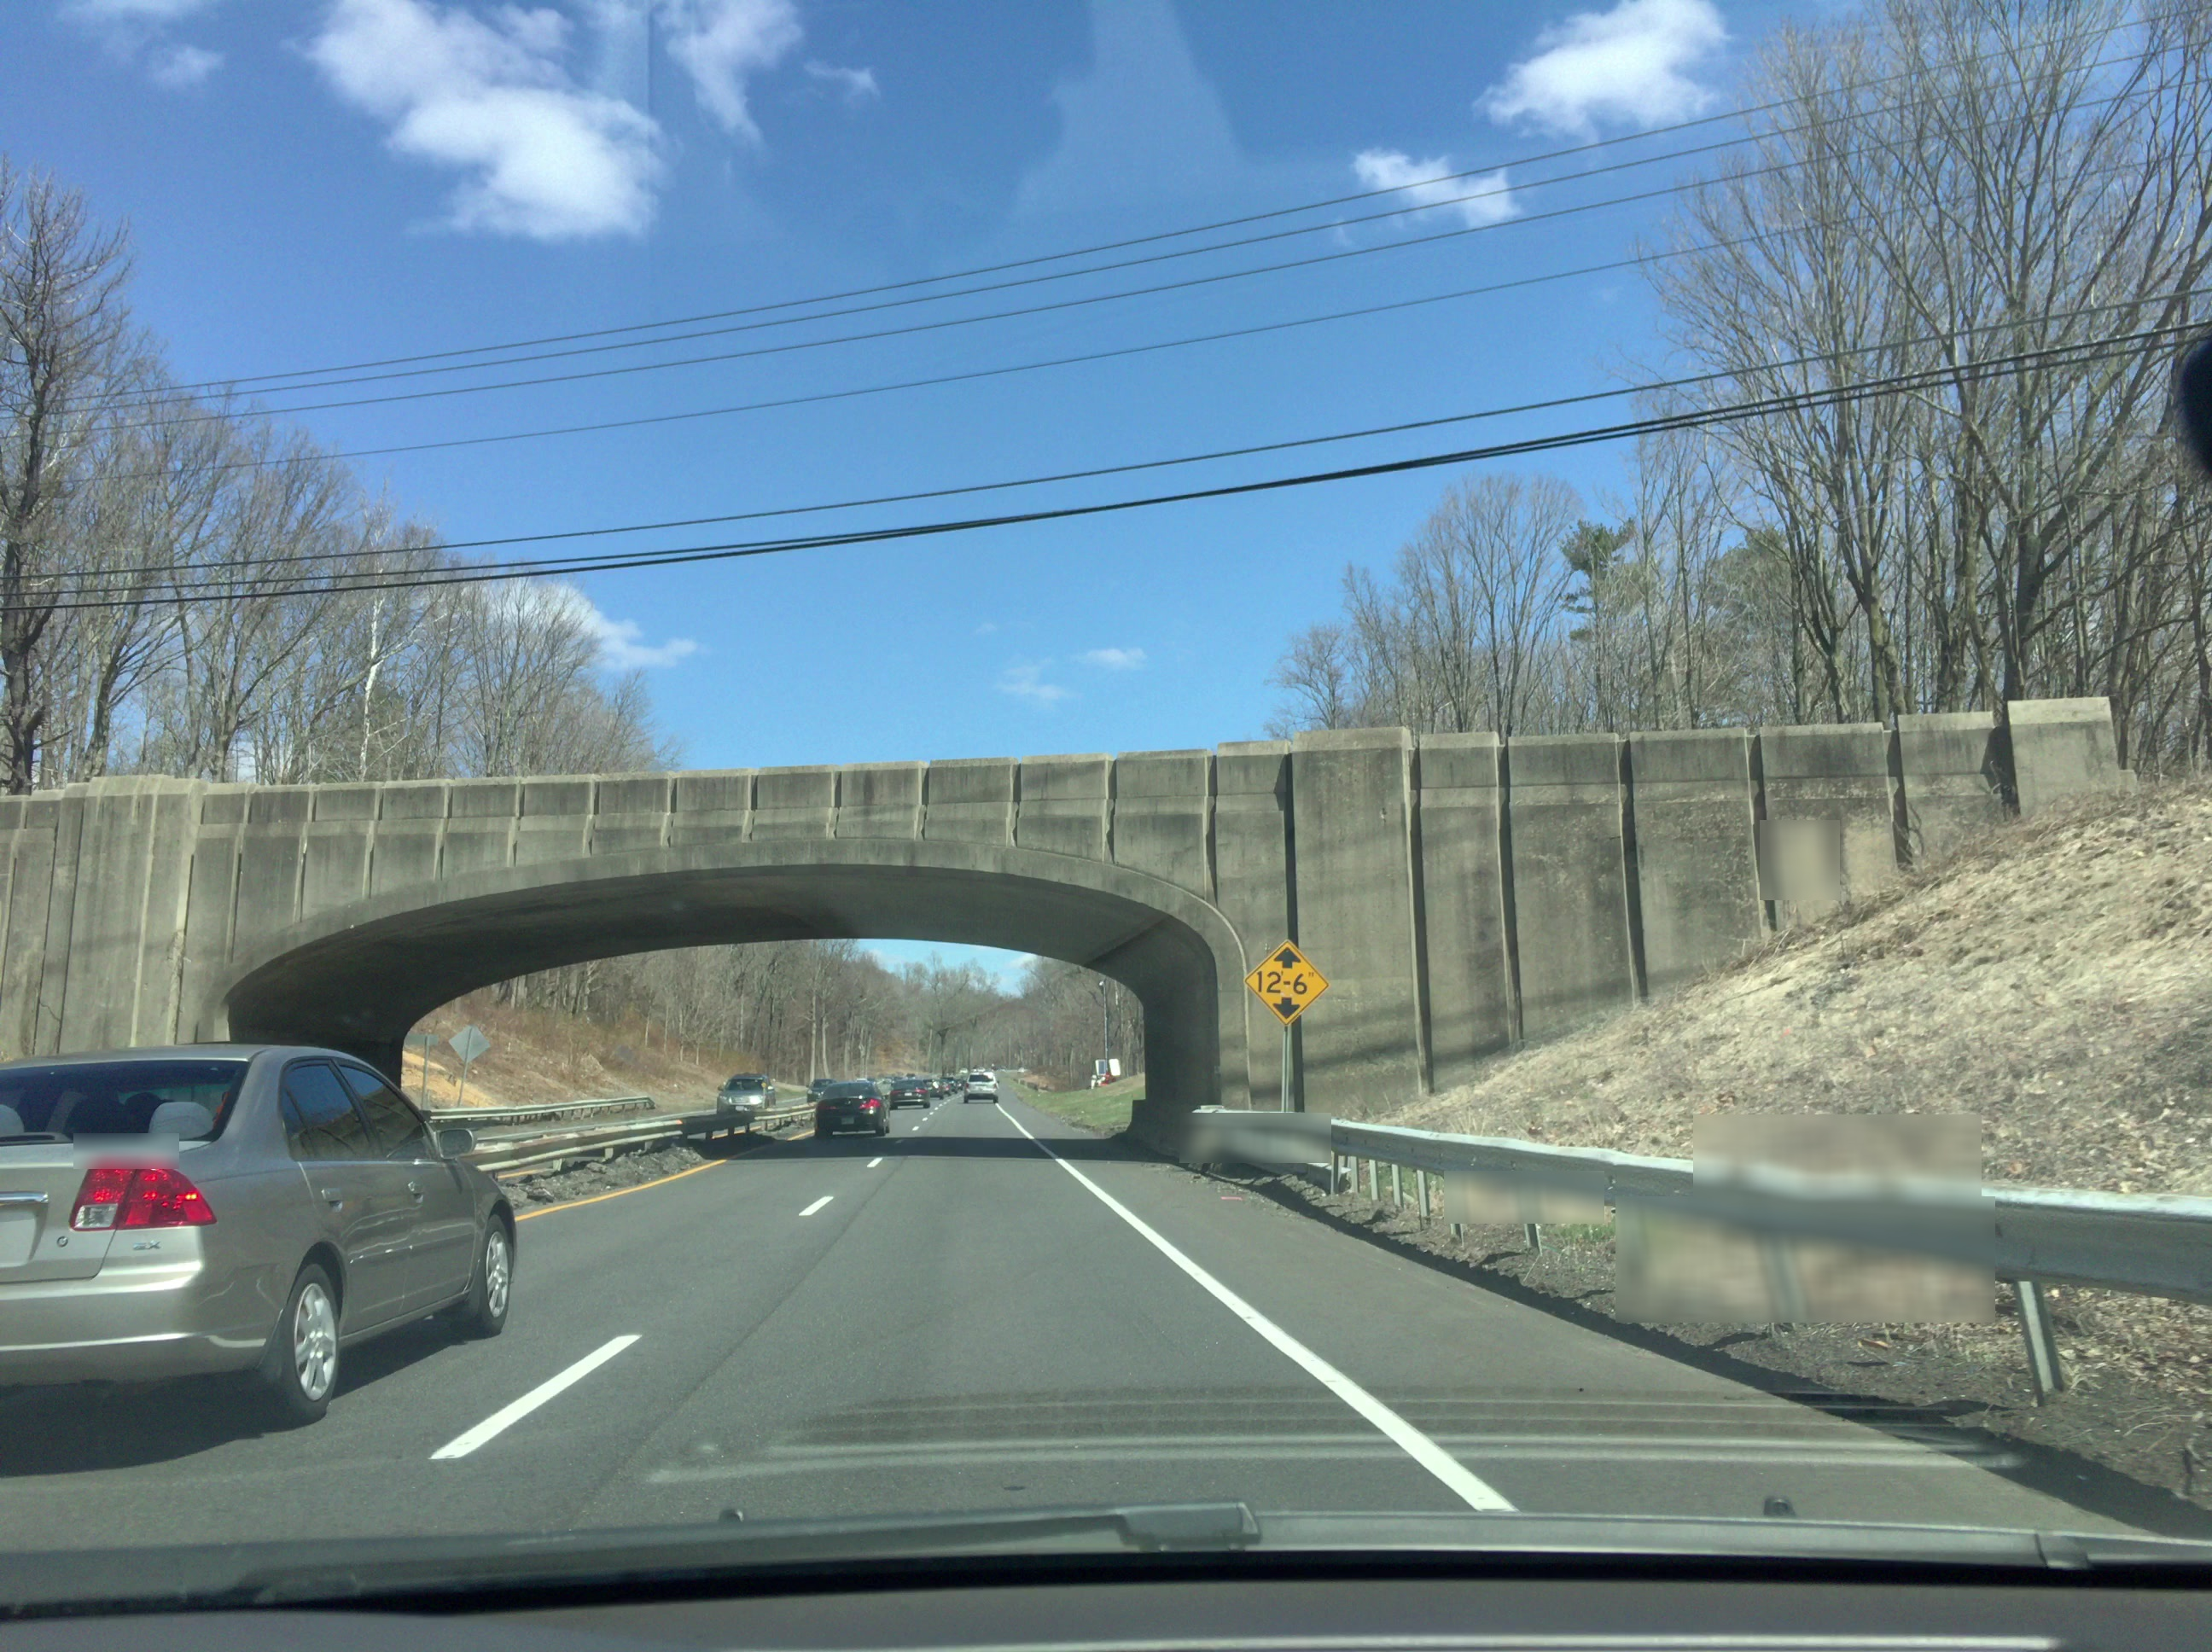low-clearance-sign: (1244, 939, 1331, 1027)
